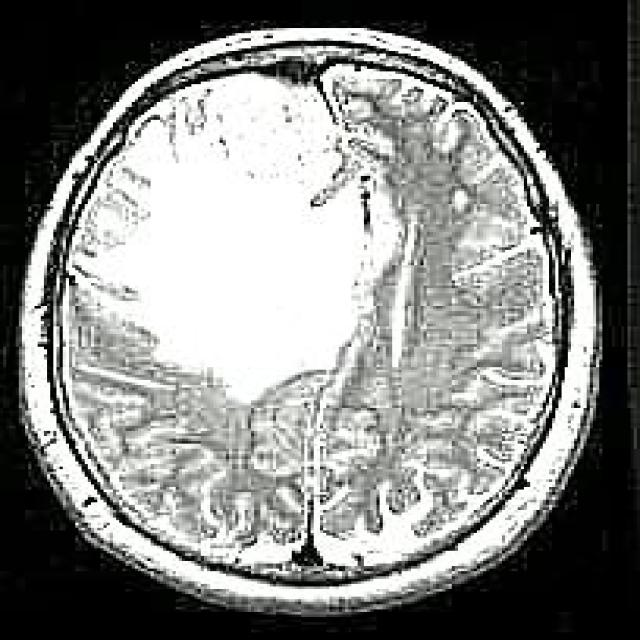Tumor-Cell: (78, 130, 376, 372)
